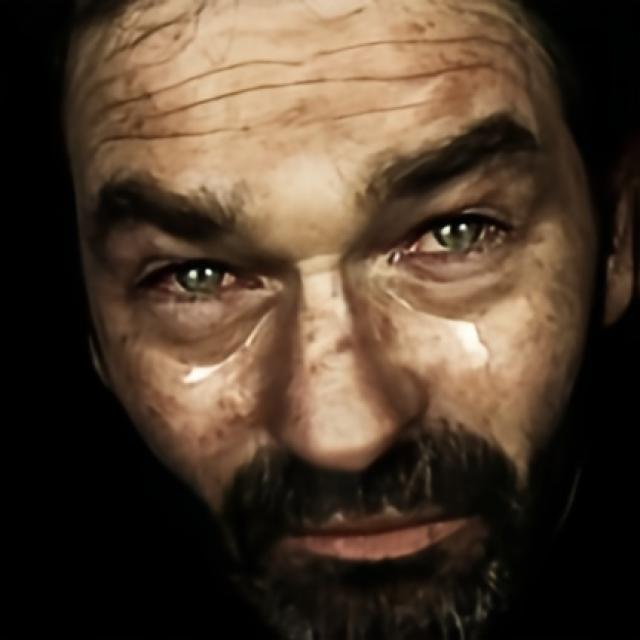sad: (68, 0, 597, 633)
